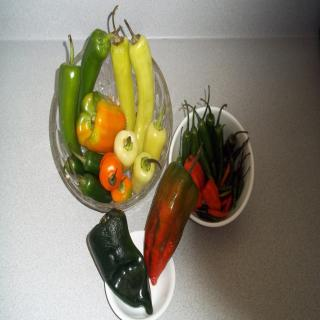Bell pepper: (145, 139, 204, 288), (86, 206, 152, 320), (76, 90, 126, 153), (98, 152, 122, 192), (111, 176, 133, 204)
